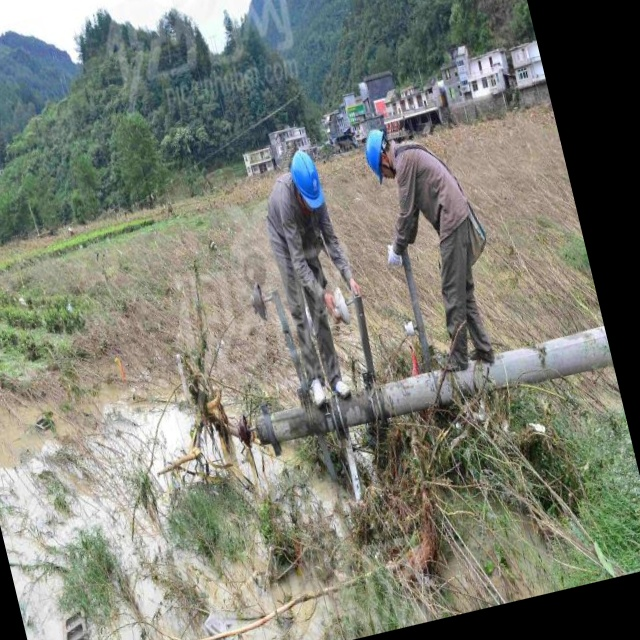Con_Casco: (284, 142, 327, 213), (360, 123, 401, 186)
